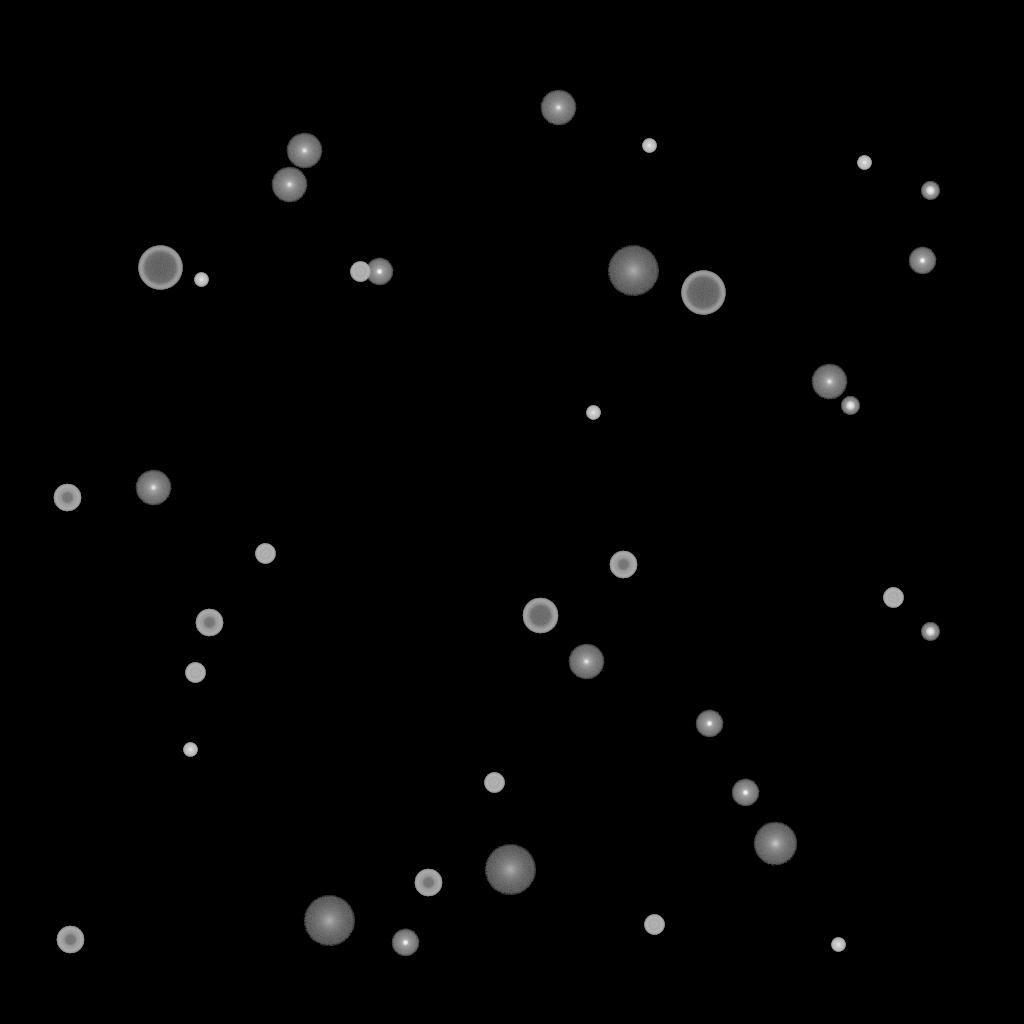depth:-10: (731, 779, 759, 807), (908, 247, 936, 275), (695, 710, 723, 738), (365, 258, 393, 286), (391, 929, 419, 957)
depth:-20: (841, 397, 859, 415), (921, 182, 939, 200), (921, 623, 939, 641)
depth:-30: (586, 406, 600, 420), (831, 938, 845, 952), (183, 743, 197, 757), (857, 156, 871, 170), (194, 273, 208, 287), (642, 139, 656, 153)
depth:-40: (484, 773, 504, 793), (255, 544, 275, 564), (644, 915, 664, 935), (883, 588, 903, 608), (185, 663, 205, 683), (350, 262, 370, 282)
depth:-50: (56, 926, 84, 954), (414, 869, 442, 897), (195, 609, 223, 637), (53, 484, 81, 512), (609, 551, 637, 579)
depth:-60: (522, 598, 558, 634)
depth:-70: (681, 271, 725, 315), (138, 246, 182, 290)
depth:0: (271, 167, 307, 203), (286, 133, 322, 169), (135, 470, 171, 506), (540, 90, 576, 126), (811, 364, 847, 400), (568, 644, 604, 680)
depth:10: (753, 822, 797, 866)
depth:20: (607, 246, 659, 296), (484, 845, 536, 895), (303, 896, 355, 946)
